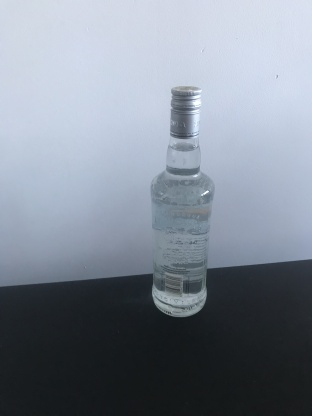nakretka: (169, 84, 202, 141)
